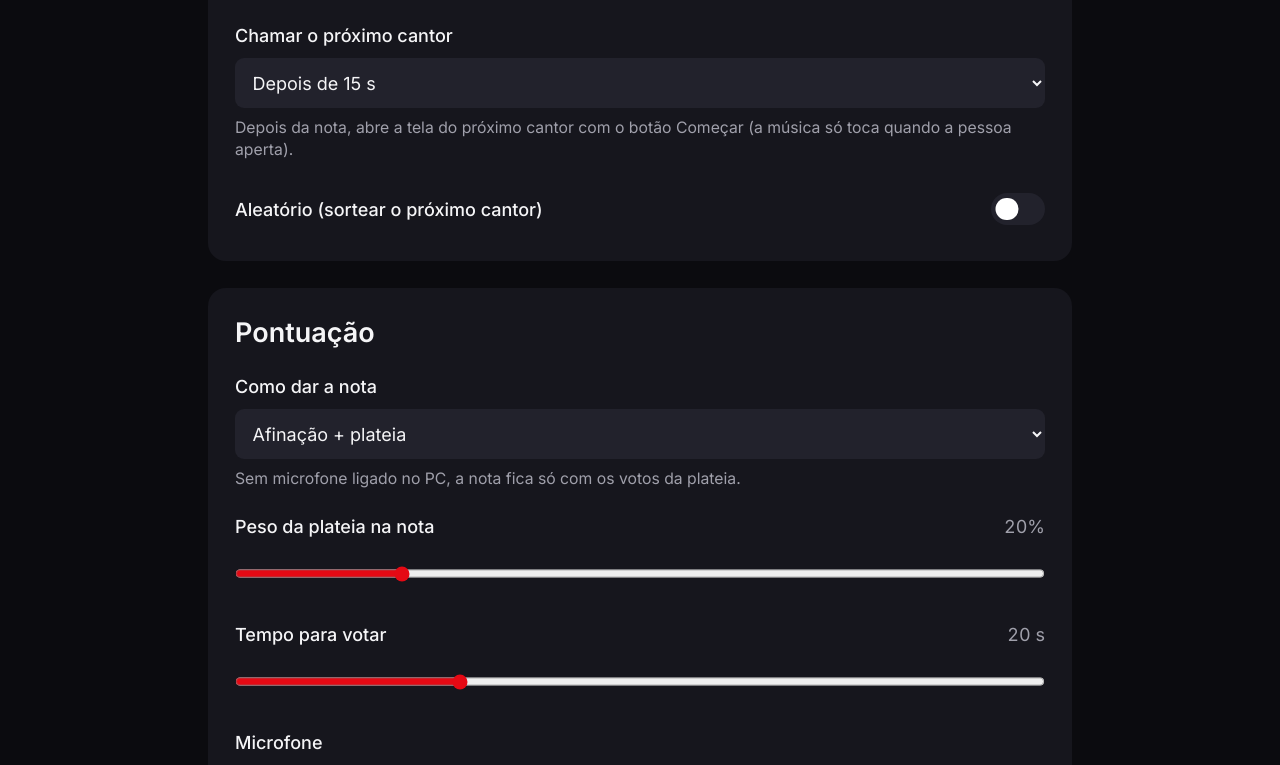
it: SettingsPage › scoring › hides the microphone when only the audience votes, and saves the choice
This screenshot has width=1280, height=765.
(page scrolled)
Select "Só plateia (votos pelo celular)" in the dropdown labelled "Como dar a nota" at (640, 434), box top-left (235, 409), bottom-right (1045, 459)
(page scrolled)
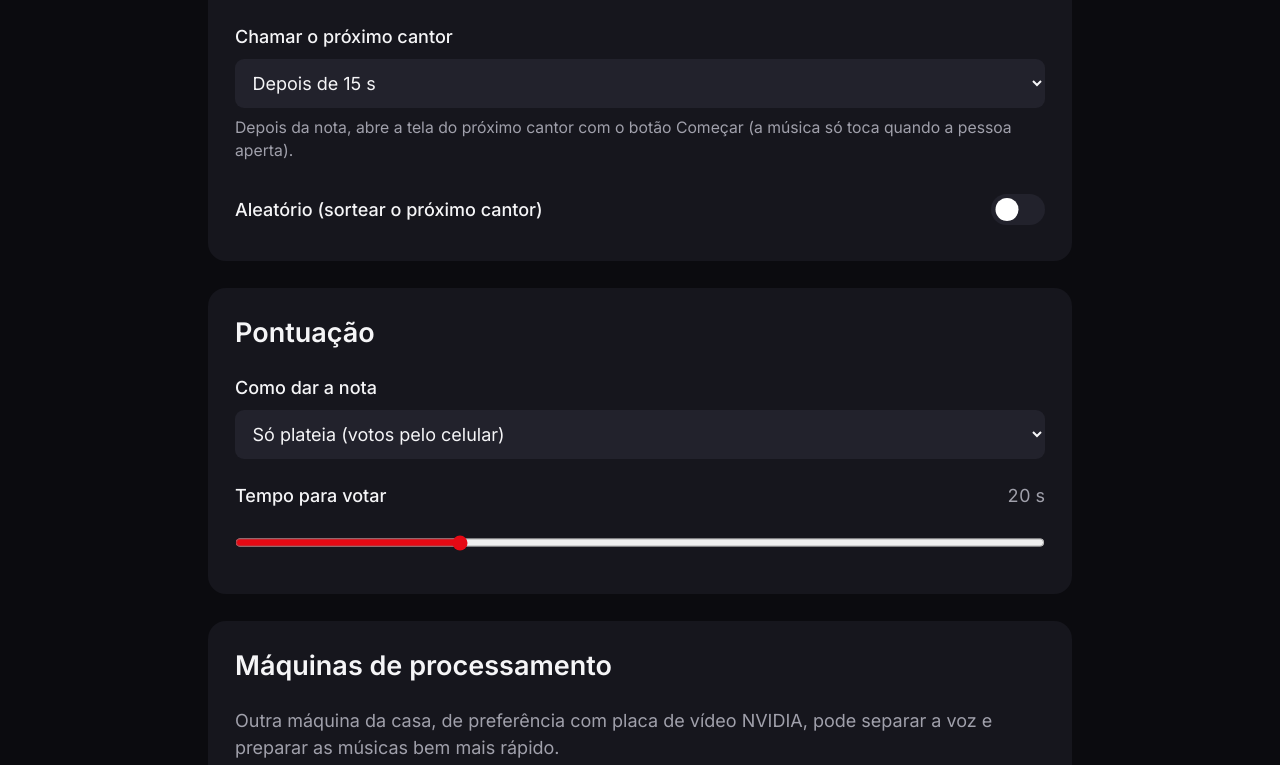
Check: the slider labelled "Tempo para votar" is shown, box top-left (235, 518), bottom-right (1045, 567)
Check: the text labelled "microfone" is gone
Check: the label "Peso da plateia na nota" is gone
